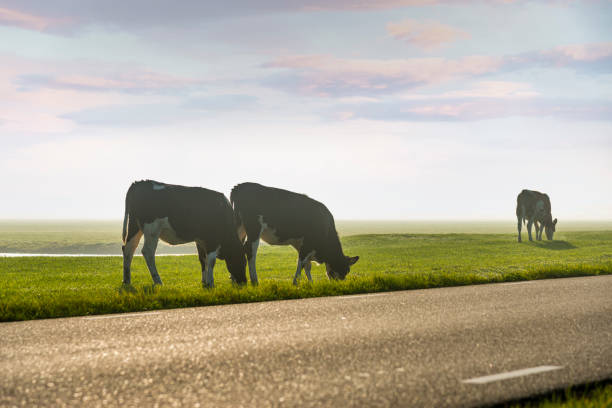inek: (222, 180, 364, 290), (108, 177, 243, 292), (513, 185, 564, 248)
